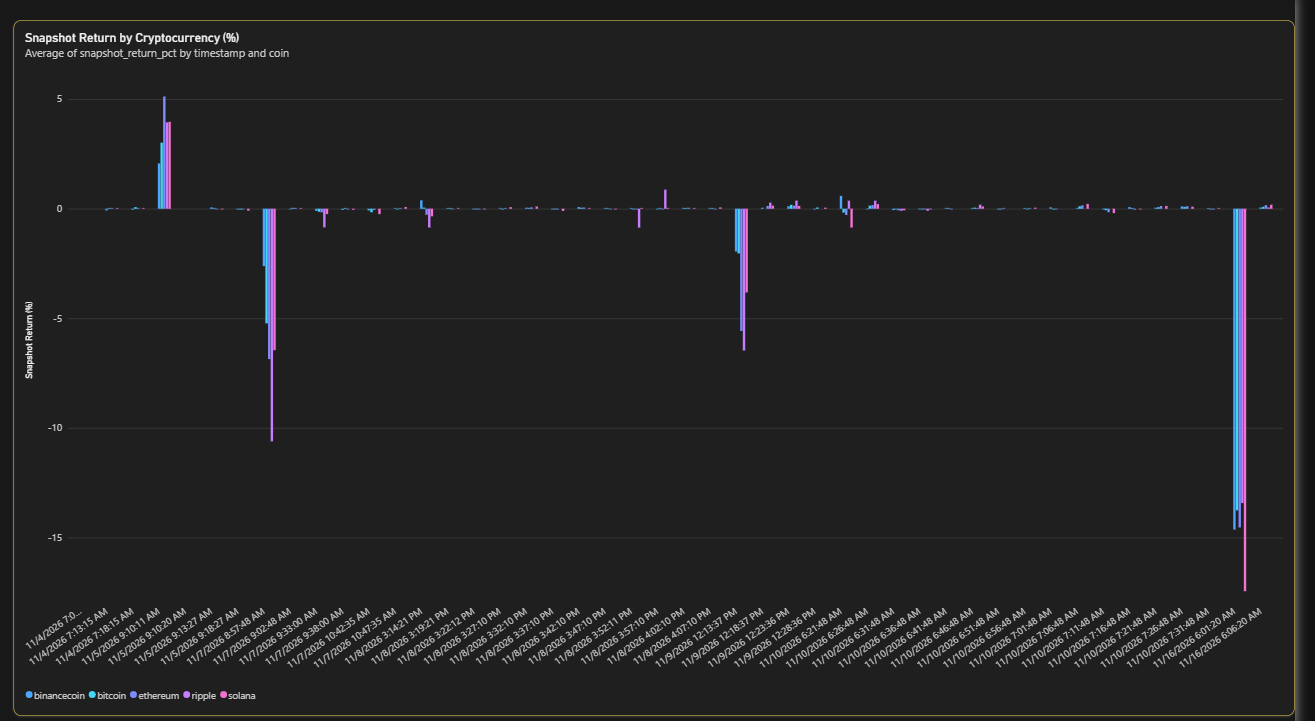

Layout of this report page (visuals, bound fields, positions):
{"tool":"powerbi","page":{"name":"Market Performance","canvas":[1920,1080],"ordinal":1},"visuals":[{"type":"clusteredColumnChart","title":"Snapshot Return by Cryptocurrency (%)","fields":{"Category":["vw_CryptoAnalytics.timestamp"],"Series":["vw_CryptoAnalytics.coin"],"Y":["Avg(vw_CryptoAnalytics.snapshot_return_pct)"]},"box":[33.1,36.8,1886.5,1025.2],"z":0}]}

Visuals, with their boxes in screenshot pixels (x1, y1, x2, y2), scaled from the page's 1920x1080 canvas onto the 1315x721 screenshot:
"Snapshot Return by Cryptocurrency (%)" clusteredColumnChart: bbox=(23, 25, 1314, 709)
